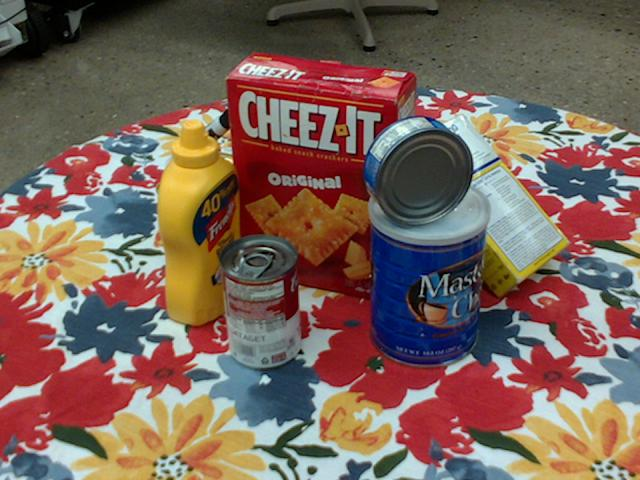cracker_box: (227, 53, 418, 298)
gelatin_box: (217, 144, 300, 214)
large_marker: (165, 102, 247, 173)
master_chef_can: (367, 177, 488, 371)
mug: (367, 133, 454, 234)
mustard_bottle: (156, 120, 243, 326)
potted_meat_can: (154, 150, 240, 266)
sugar_box: (389, 115, 571, 300)
tomato_soup_can: (217, 234, 300, 370)
tuna_fish_can: (365, 116, 474, 226)
